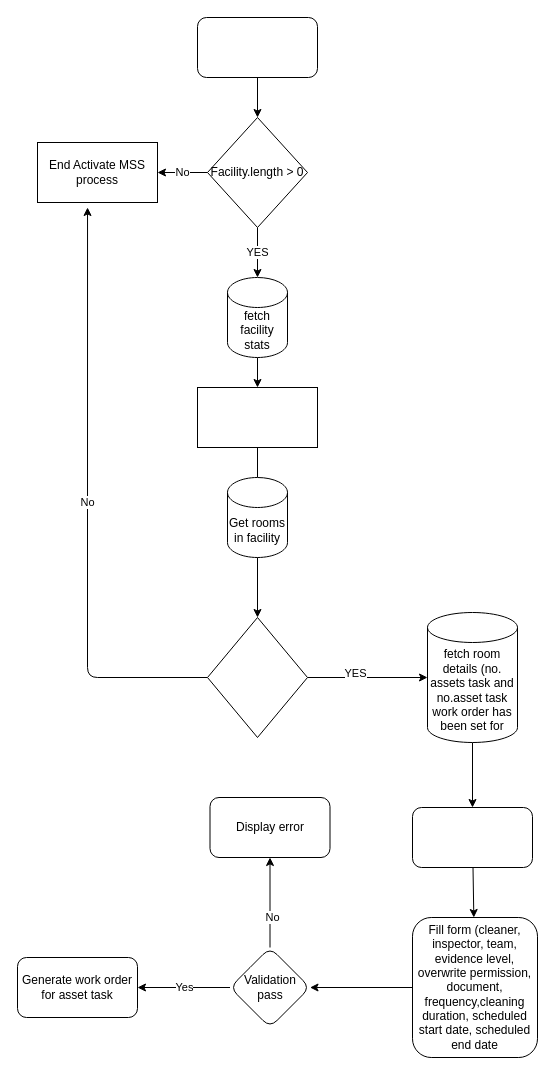
The diagram is 555 pixels wide and 1075 high, and some of its shapes have lost their labels. Here are the shapes that lost their labels. From the top down, the centre of each, then its label:
the point at 257,47: Activate MSS
the point at 257,417: Display total number of facilities mss has been completely set for
the point at 257,677: rooms.length > 0
the point at 472,837: Create work order for asset task
